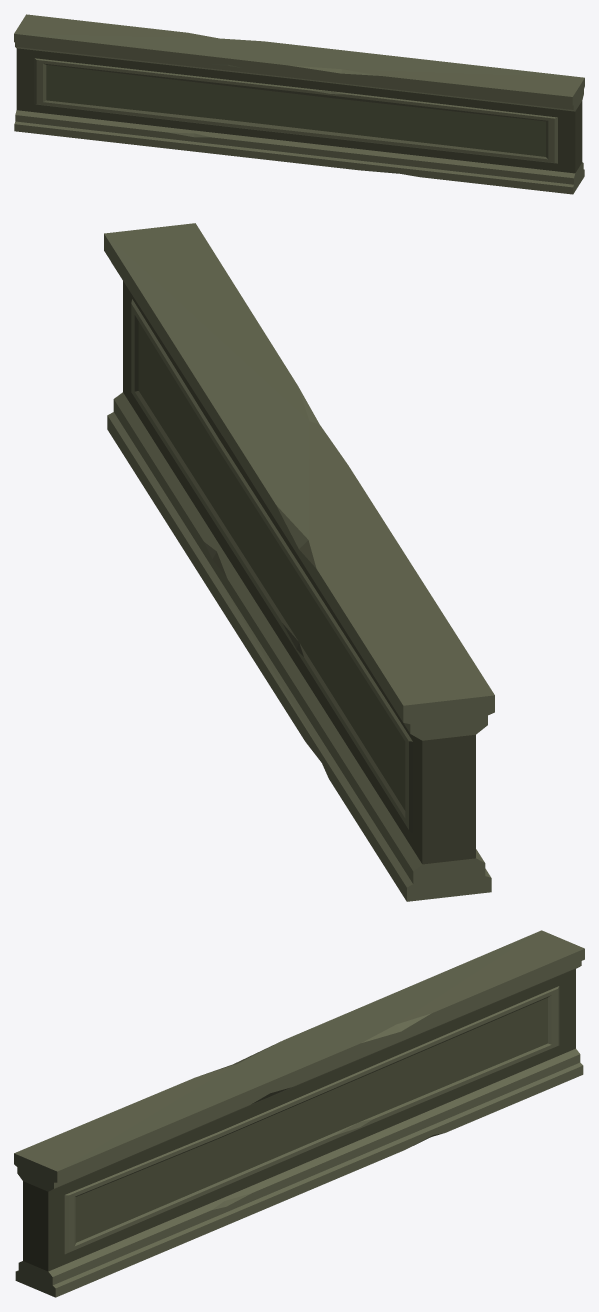
File: SM_Bld_Roof_Edge_Entrance_01.fbx
3 views of the same model, one above another, from view 1: azimuth 30°, elevation 25°; view 2: azimuth 150°, elevation 25°; view 3: azimuth 270°, elevation 25° (orthographic). The views are drawn at different scales.
Visible parts, largest first — view 1: SM_Bld_Roof_Edge_Entrance_01; view 2: SM_Bld_Roof_Edge_Entrance_01; view 3: SM_Bld_Roof_Edge_Entrance_01.
Boxes of the visible parts, x1=… form: SM_Bld_Roof_Edge_Entrance_01: x1=14, y1=14, x2=584, y2=194; SM_Bld_Roof_Edge_Entrance_01: x1=104, y1=223, x2=494, y2=901; SM_Bld_Roof_Edge_Entrance_01: x1=14, y1=930, x2=584, y2=1297.
Bounding box in the file's own units: 541 × 133 × 541.
Materials: 1 (1 with a texture image).
